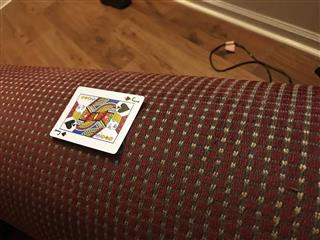JackOfSpades: (48, 85, 145, 155)
